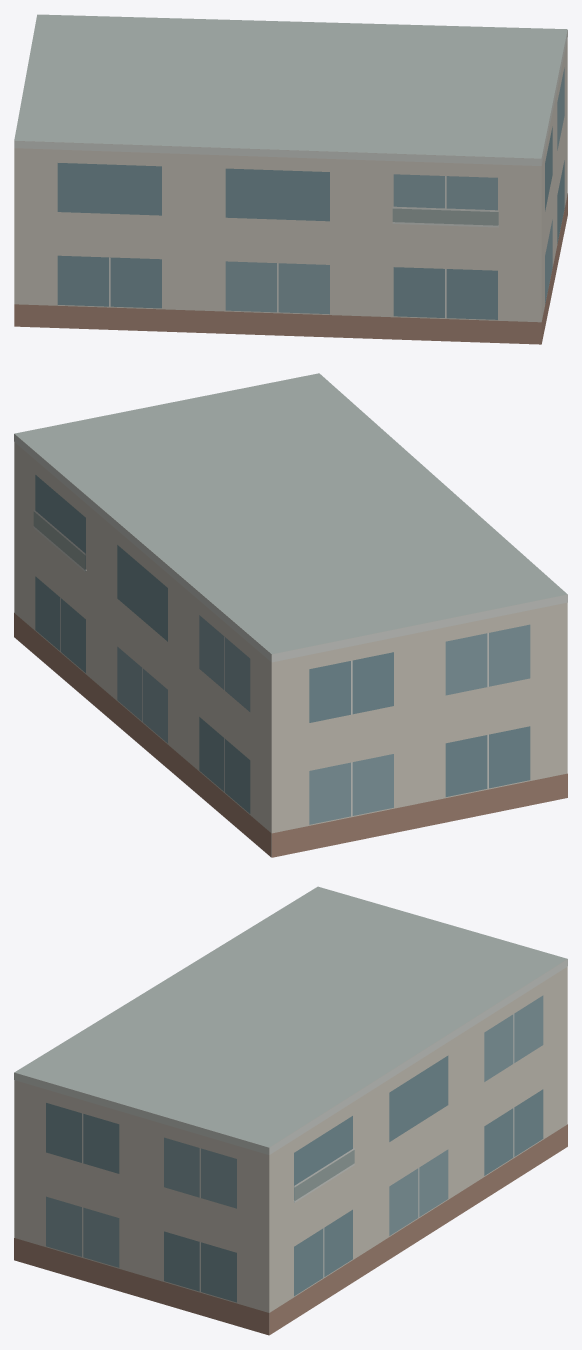
Rendered from survey-upis-32965501.glb.
3 renders of one model, top to bottom at view 1: azimuth 30°, elevation 25°; view 2: azimuth 150°, elevation 25°; view 3: azimuth 270°, elevation 25°, orthographic. The views are drawn at different scales.
Visible parts, largest first — view 1: survey-upis-32965501.tmp; view 2: survey-upis-32965501.tmp; view 3: survey-upis-32965501.tmp.
Part boxes in pixels (x1,y1,x2,y2): survey-upis-32965501.tmp: (14, 14, 567, 344); survey-upis-32965501.tmp: (14, 373, 567, 857); survey-upis-32965501.tmp: (14, 886, 567, 1335).
Size of the model in its own units: 18.21 by 6.1 by 16.31.
